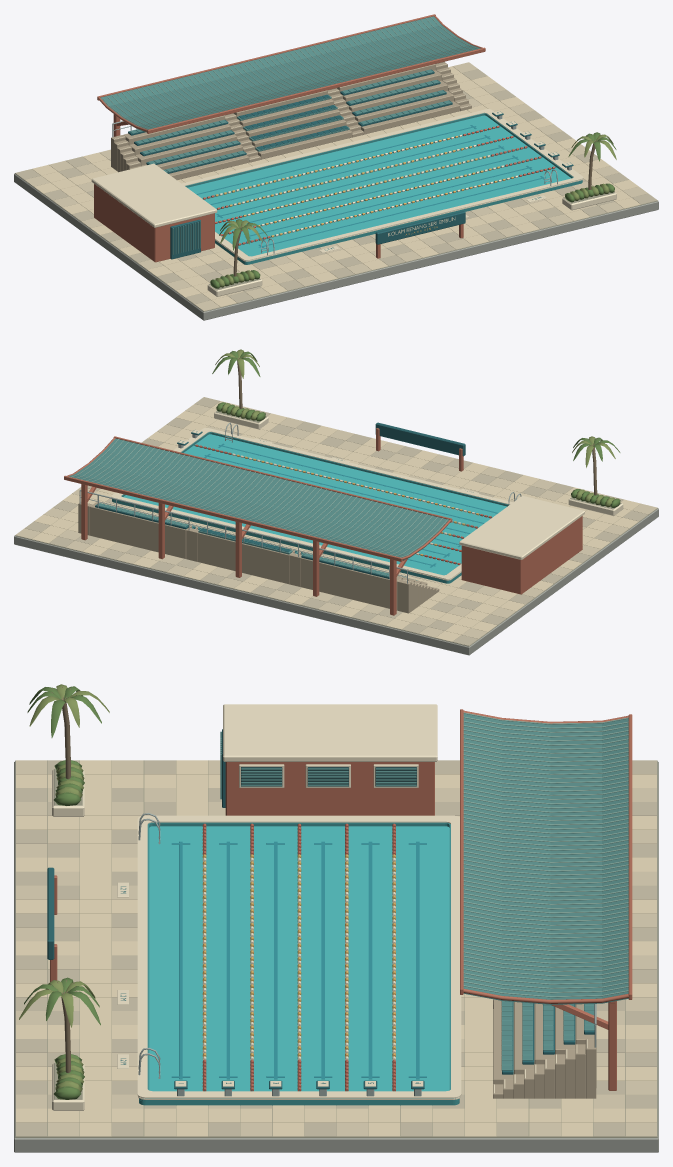
3 views of the same model, one above another, from view 1: azimuth 30°, elevation 25°; view 2: azimuth 150°, elevation 25°; view 3: azimuth 270°, elevation 25° (orthographic). The views are drawn at different scales.
Visible parts, largest first — view 1: Facility Deck, Lined Pool, Grandstand, Grandstand Canopy, Changing Pavilion, Course Lane Ropes, Pool Planting, Pool Markings, Facility Name; view 2: Facility Deck, Grandstand Canopy, Lined Pool, Grandstand, Changing Pavilion, Pool Planting, Facility Name, Pool Markings, Course Lane Ropes; view 3: Facility Deck, Lined Pool, Grandstand Canopy, Changing Pavilion, Grandstand, Pool Planting, Pool Markings, Course Lane Ropes, Starting Blocks, Facility Name, Safety Hardware.
Part boxes in pixels (x1,y1,x2,y2): Facility Deck: [14, 62, 658, 320]; Lined Pool: [182, 109, 583, 264]; Grandstand: [111, 61, 471, 179]; Grandstand Canopy: [97, 14, 485, 136]; Changing Pavilion: [91, 163, 217, 262]; Course Lane Ropes: [202, 125, 556, 245]; Pool Planting: [207, 132, 616, 296]; Pool Markings: [196, 125, 546, 248]; Facility Name: [375, 211, 465, 258]; Facility Deck: [14, 397, 658, 655]; Grandstand Canopy: [64, 436, 452, 615]; Lined Pool: [111, 428, 512, 583]; Grandstand: [78, 489, 439, 613]; Changing Pavilion: [459, 495, 584, 594]; Pool Planting: [212, 349, 623, 515]; Facility Name: [375, 422, 465, 471]; Pool Markings: [204, 443, 498, 567]; Course Lane Ropes: [194, 444, 491, 564]; Facility Deck: [14, 760, 658, 1152]; Lined Pool: [137, 815, 461, 1105]; Grandstand Canopy: [460, 709, 632, 1090]; Changing Pavilion: [220, 704, 437, 815]; Grandstand: [493, 999, 596, 1098]; Pool Planting: [19, 684, 109, 1110]; Pool Markings: [171, 841, 426, 1079]; Course Lane Ropes: [202, 823, 395, 1091]; Starting Blocks: [174, 1080, 424, 1096]; Facility Name: [47, 867, 57, 981]; Safety Hardware: [117, 813, 160, 1078].
Bounding box in the file's own units: 35.2 × 5.61 × 25.4.
